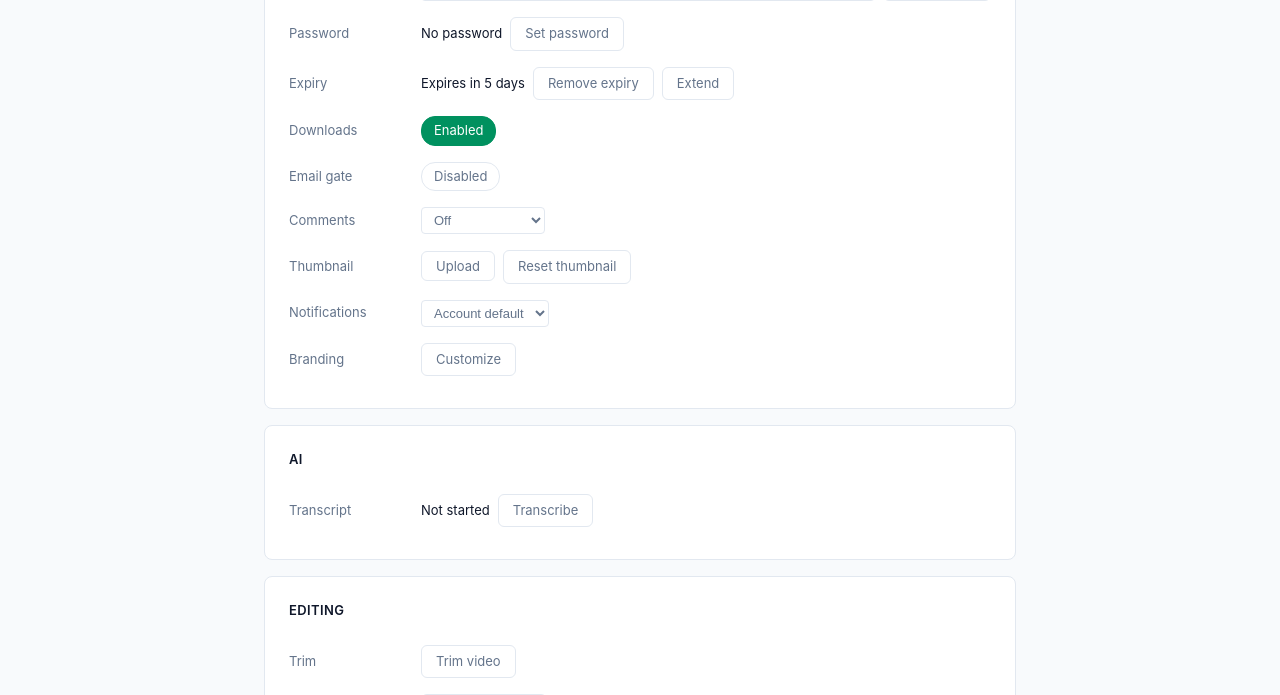
VideoDetail › opens branding modal when Customize clicked
(page scrolled)
Step 1. Click the button "Customize" → click(469, 359), box x1=421 y1=342 x2=516 y2=376
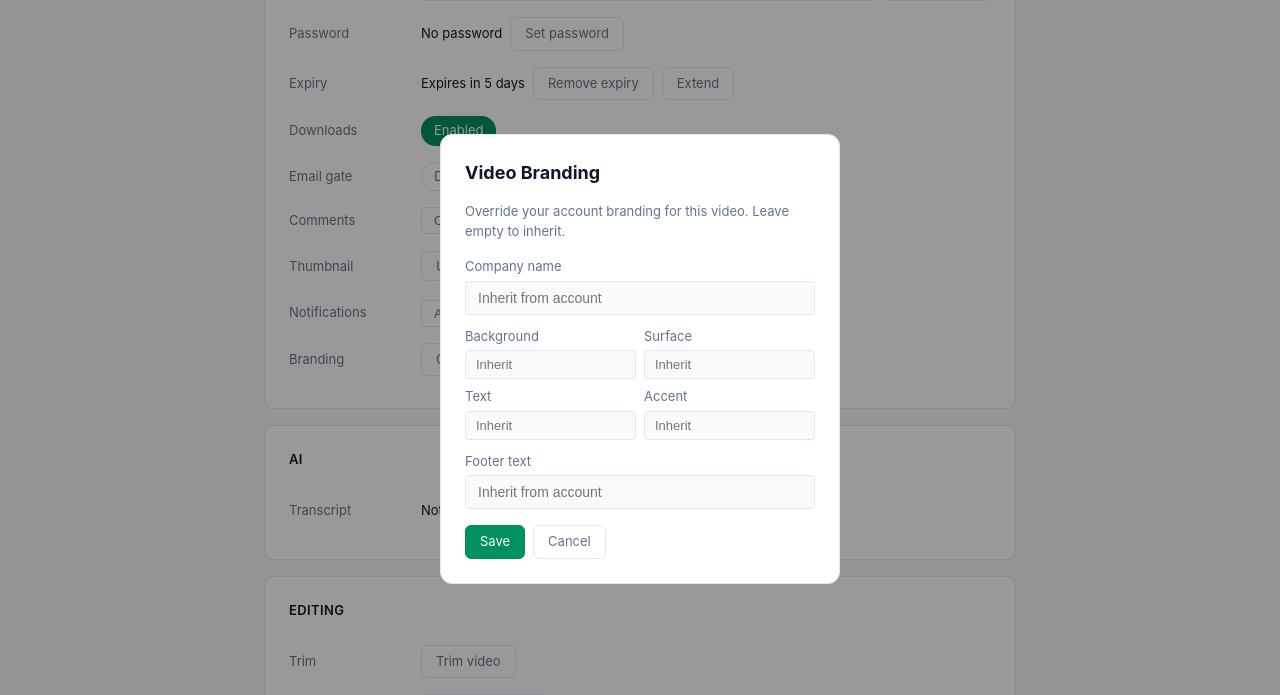
Check: the heading "Video Branding" is shown, box x1=465 y1=162 x2=600 y2=183
